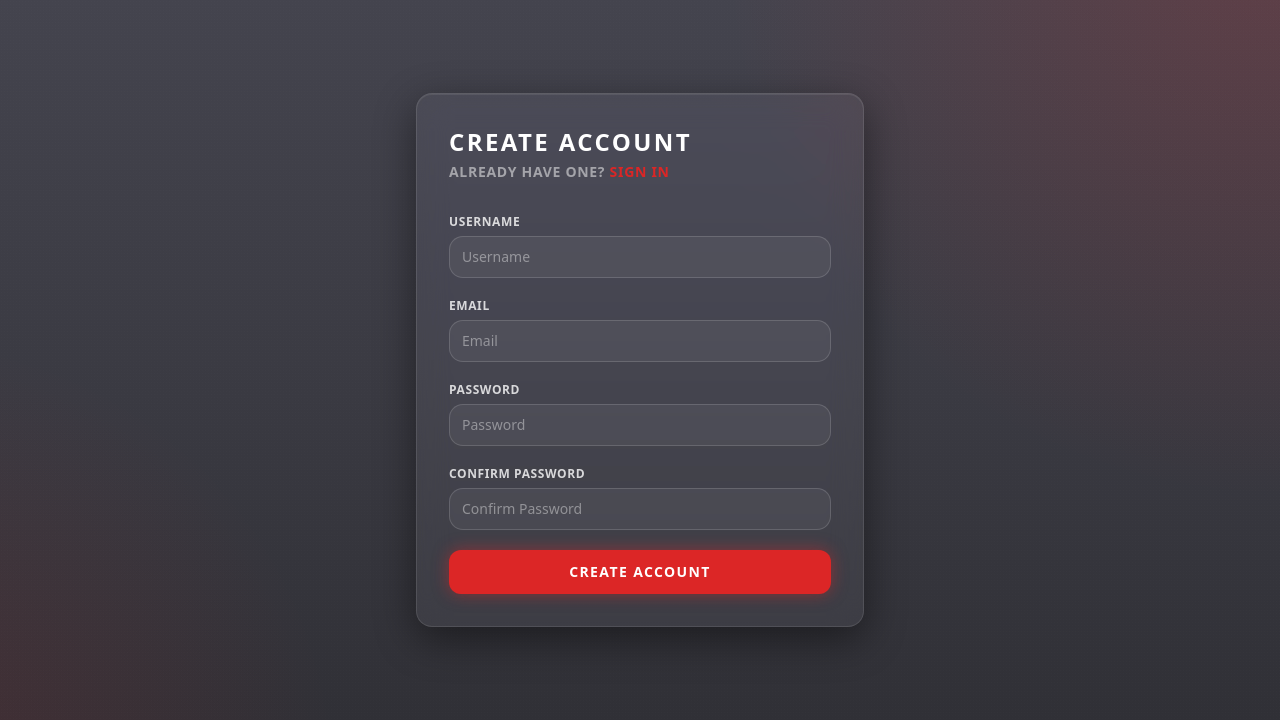
Scenario: Register page › failed registration › displays the top-level error message on failure
Type "ash" into the field labelled "Username" at (640, 257), box x1=449 y1=236 x2=831 y2=278
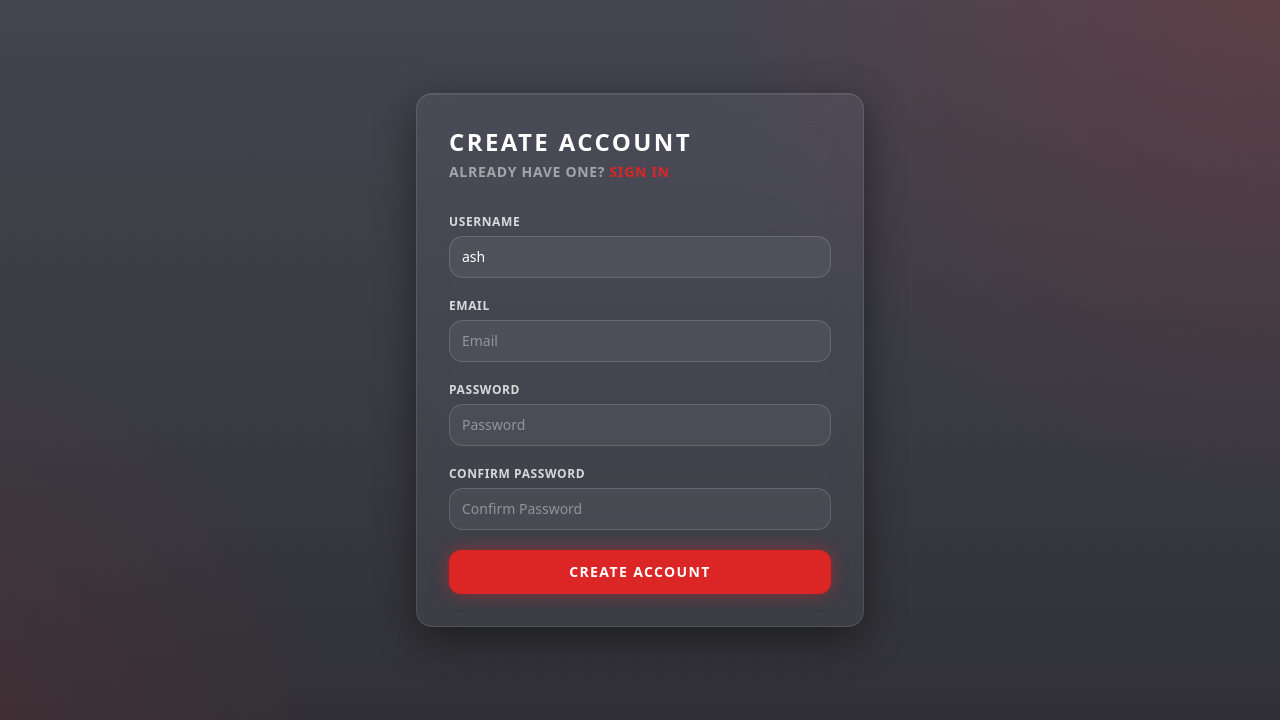
Type "ash@pallet.com" into the field labelled "Email" at (640, 341), box x1=449 y1=320 x2=831 y2=362
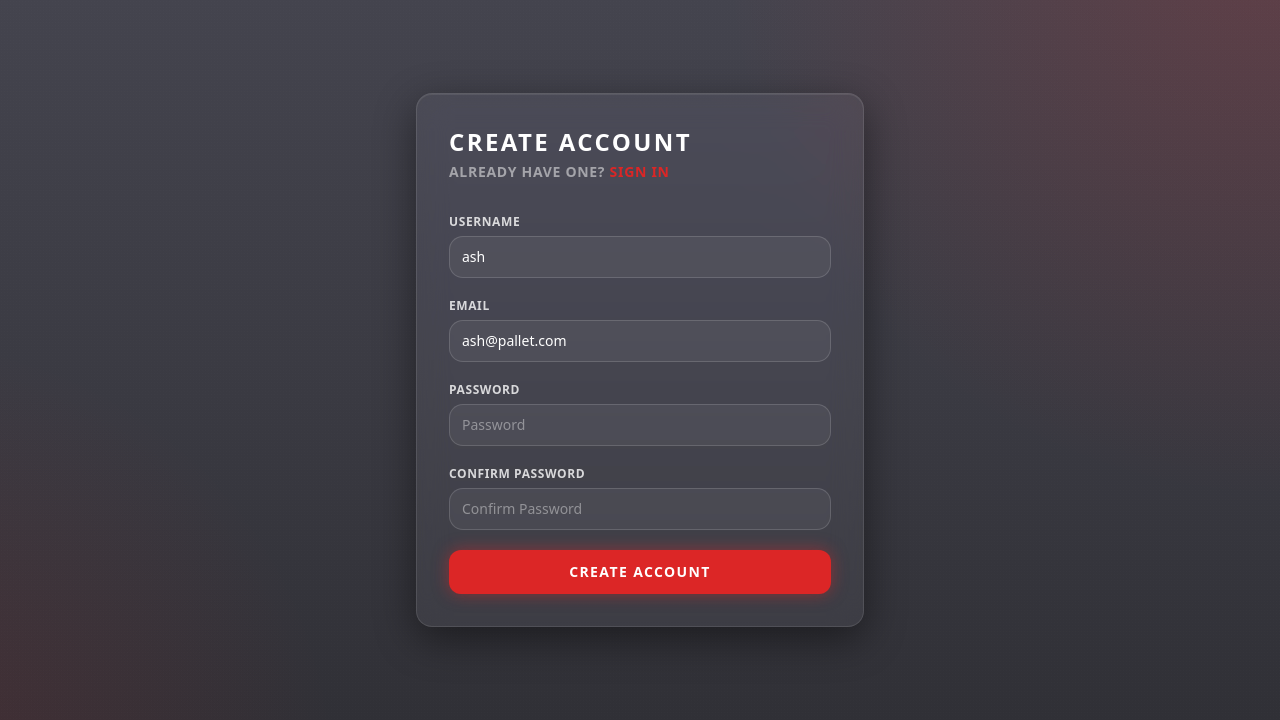
Type "pikachu1" into the password field labelled "Password" at (640, 425), box x1=449 y1=404 x2=831 y2=446
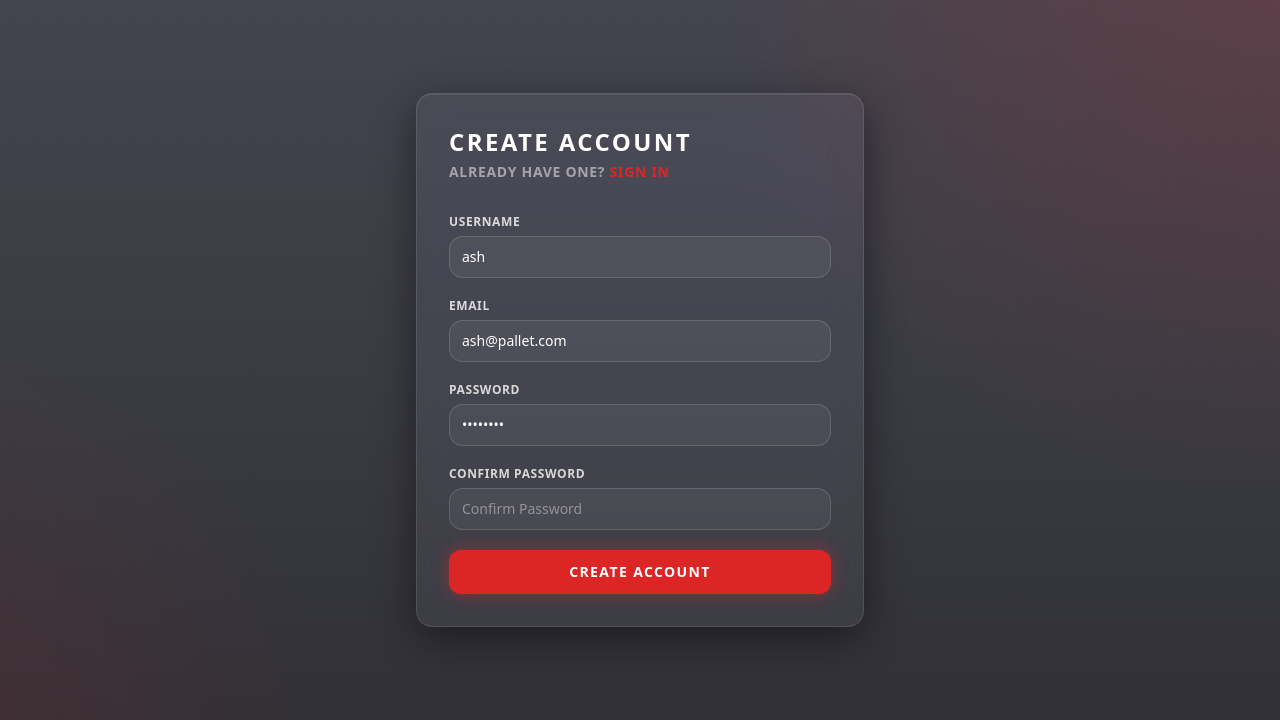
Type "pikachu1" into the password field labelled "Confirm Password" at (640, 509), box x1=449 y1=488 x2=831 y2=530
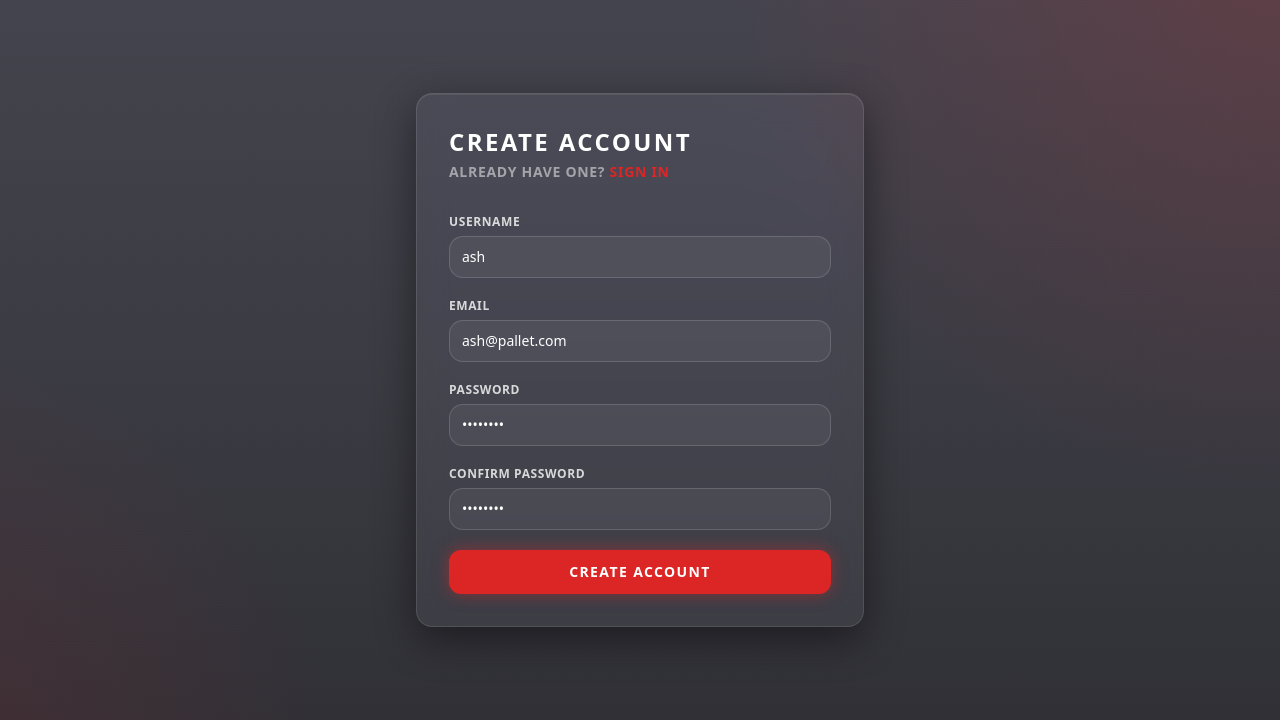
Click the button "Create Account" at (640, 572), box x1=449 y1=550 x2=831 y2=594
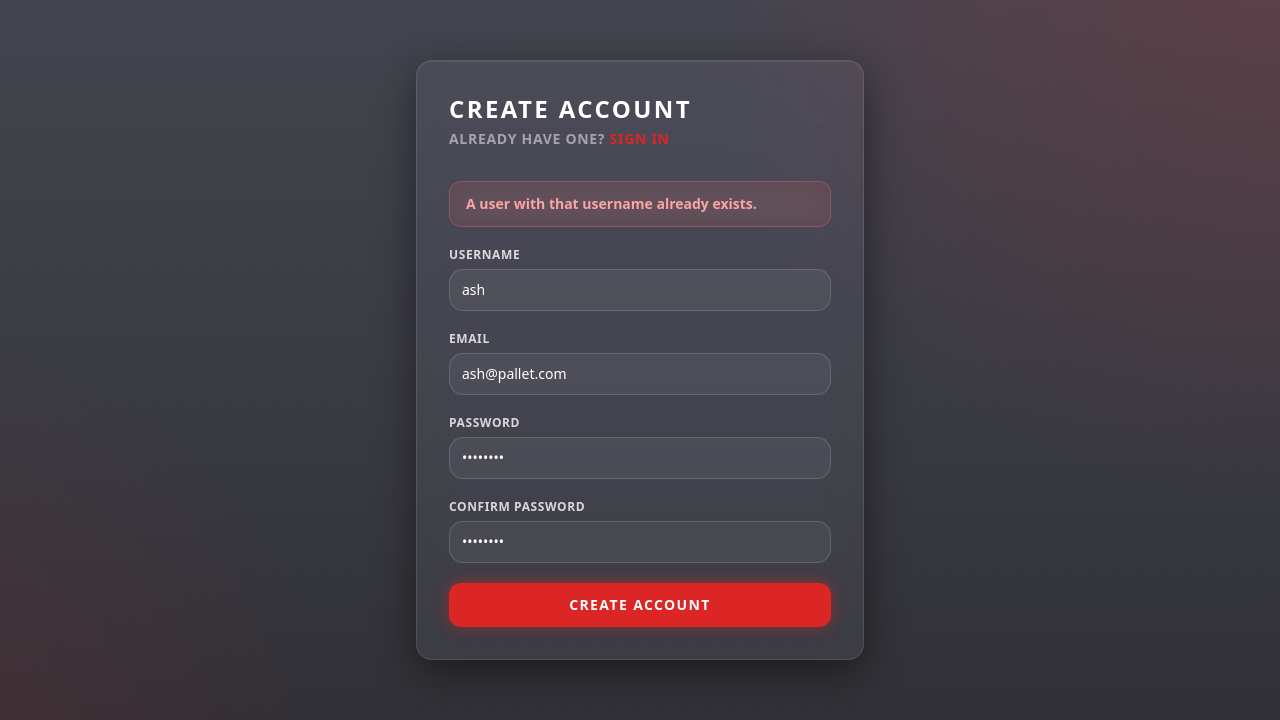
Now the text "A user with that username already exists." is shown, box x1=449 y1=181 x2=831 y2=227
